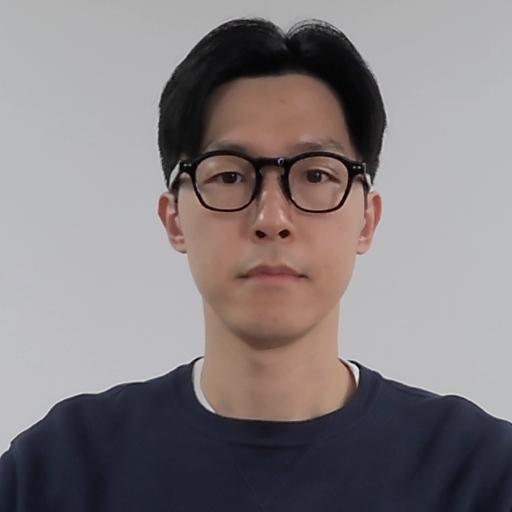no_glasses: (151, 12, 396, 348)
